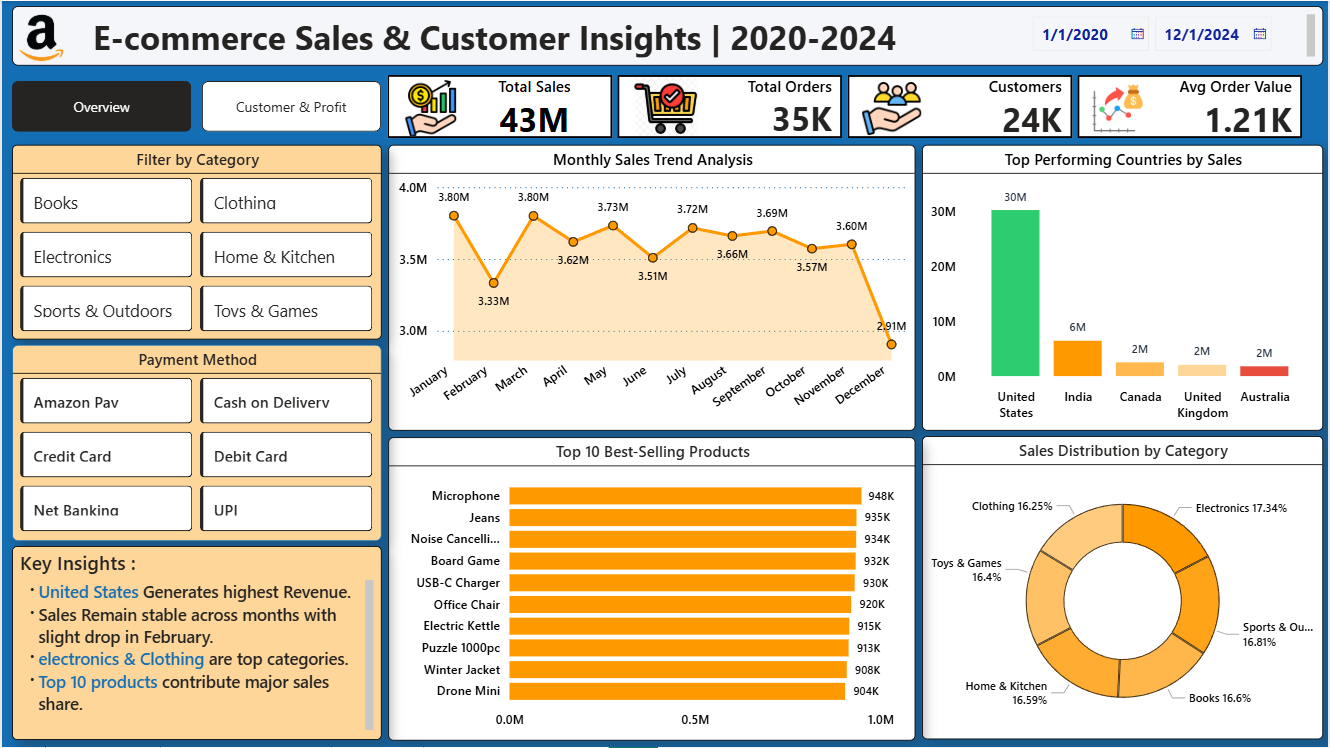

Layout of this report page (visuals, bound fields, positions):
{"tool":"powerbi","page":{"name":"Overview","canvas":[1280,720],"ordinal":0},"visuals":[{"type":"textbox","title":"Sales Performance Overview | 2020-2024","box":[9.7,4.8,1265.6,57.9],"z":0},{"type":"cardVisual","title":"Total Sales","fields":{"Data":["amazon amazon.Total Sales","amazon amazon.Total Orders","amazon amazon.Total Customers","amazon amazon.AOV"]},"box":[349.9,48.3,930.2,109.8],"z":1},{"type":"lineChart","title":"Monthly Sales Trend Analysis","fields":{"Category":["amazon amazon.Month Name"],"Y":["amazon amazon.Total Sales"]},"box":[372.8,138.7,509.1,276.3],"z":2},{"type":"columnChart","title":"Top Performing Countries by Sales","fields":{"Category":["amazon amazon.Country"],"Y":["amazon amazon.Total Sales"]},"box":[887.9,138.7,387.3,276.3],"z":3},{"type":"donutChart","title":"Sales Distribution by Category","fields":{"Category":["amazon amazon.Category"],"Y":["amazon amazon.Total Sales"]},"box":[887.9,419.8,387.3,293.2],"z":4},{"type":"clusteredBarChart","title":"Top 10 Best-Selling Products","fields":{"Category":["amazon amazon.ProductName"],"Y":["amazon amazon.Total Sales"]},"box":[372.8,421,509.1,293.2],"z":5},{"type":"advancedSlicerVisual","title":"Filter by Category","fields":{"Values":["amazon amazon.Category"]},"box":[9.7,138.7,357.1,188.2],"z":6},{"type":"advancedSlicerVisual","title":"Payment Method","fields":{"Values":["amazon amazon.PaymentMethod"]},"box":[9.7,331.8,357.1,189.4],"z":7},{"type":"image","box":[0,4.8,76,62.7],"z":8},{"type":"slicer","title":"Select Date Range","fields":{"Values":["amazon amazon.OrderDate"]},"box":[982,4.8,277.5,57.9],"z":9},{"type":"textbox","title":"Key Insights :","box":[9.7,526,357.1,187],"z":10},{"type":"pageNavigator","box":[9.7,77.2,357.1,49.5],"z":11}]}

Visuals, with their boxes in screenshot pixels (x1, y1, x2, y2), scaled from the page's 1280x720 canvas onto the 1330x748 screenshot:
"Sales Performance Overview | 2020-2024" textbox: 10 5 1325 65
"Total Sales" cardVisual: 364 50 1329 164
"Monthly Sales Trend Analysis" lineChart: 387 144 916 431
"Top Performing Countries by Sales" columnChart: 923 144 1325 431
"Sales Distribution by Category" donutChart: 923 436 1325 741
"Top 10 Best-Selling Products" clusteredBarChart: 387 437 916 742
"Filter by Category" advancedSlicerVisual: 10 144 381 340
"Payment Method" advancedSlicerVisual: 10 345 381 541
image: 0 5 79 70
"Select Date Range" slicer: 1020 5 1309 65
"Key Insights :" textbox: 10 546 381 741
pageNavigator: 10 80 381 132
